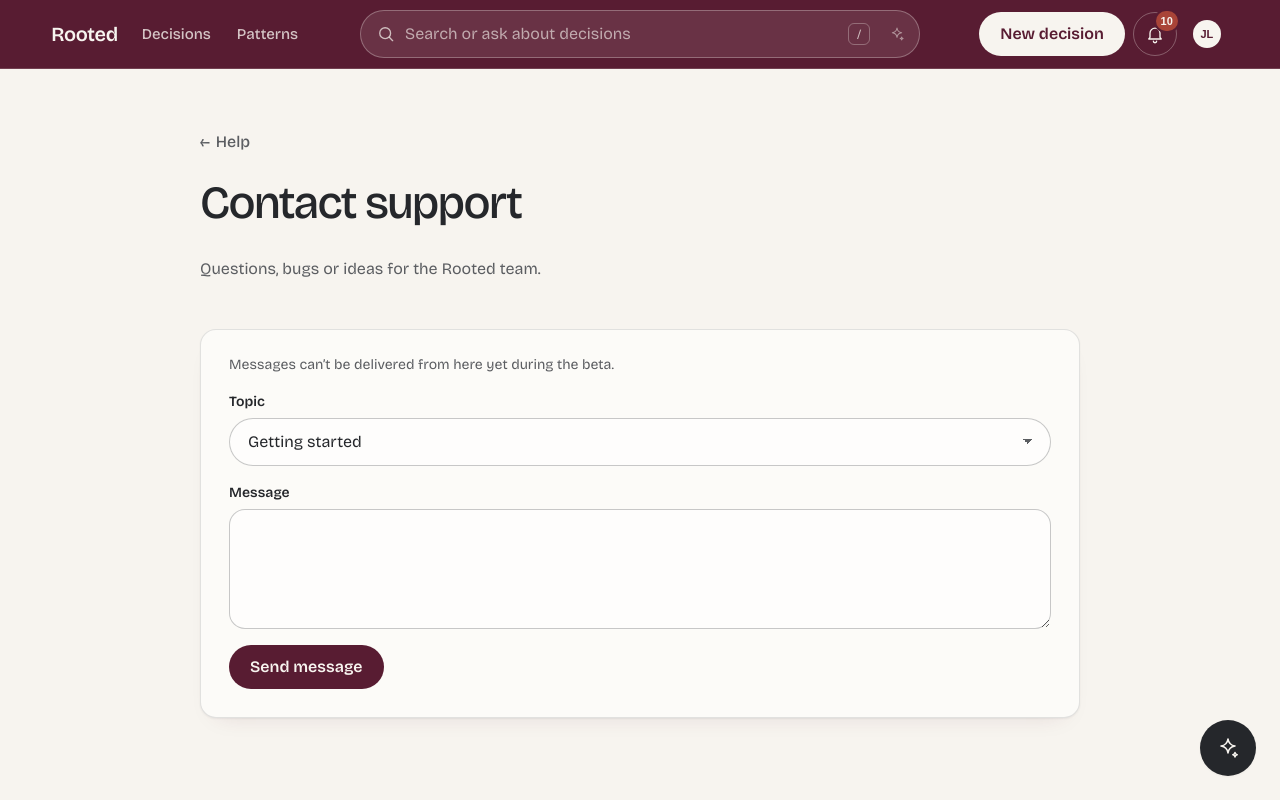
Scenario: Help › F-28: the support form requires a message and confirms nothing was sent
Click the button "Send message": (306, 666) [229,644,384,688]
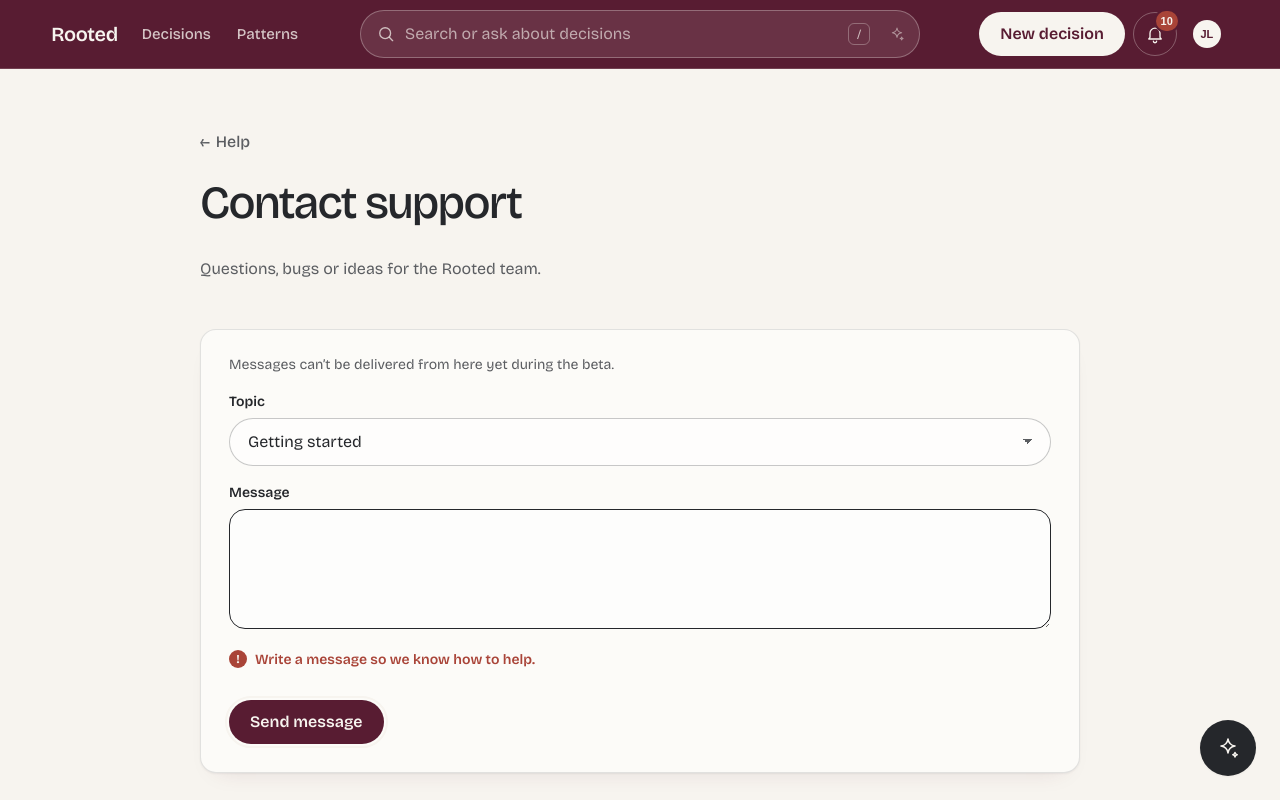
Expected: the message "Write a message so we know how to help." is shown, [255,650,535,668]
Select "Account" in the dropdown labelled "Topic": (640, 442) [229,418,1051,466]
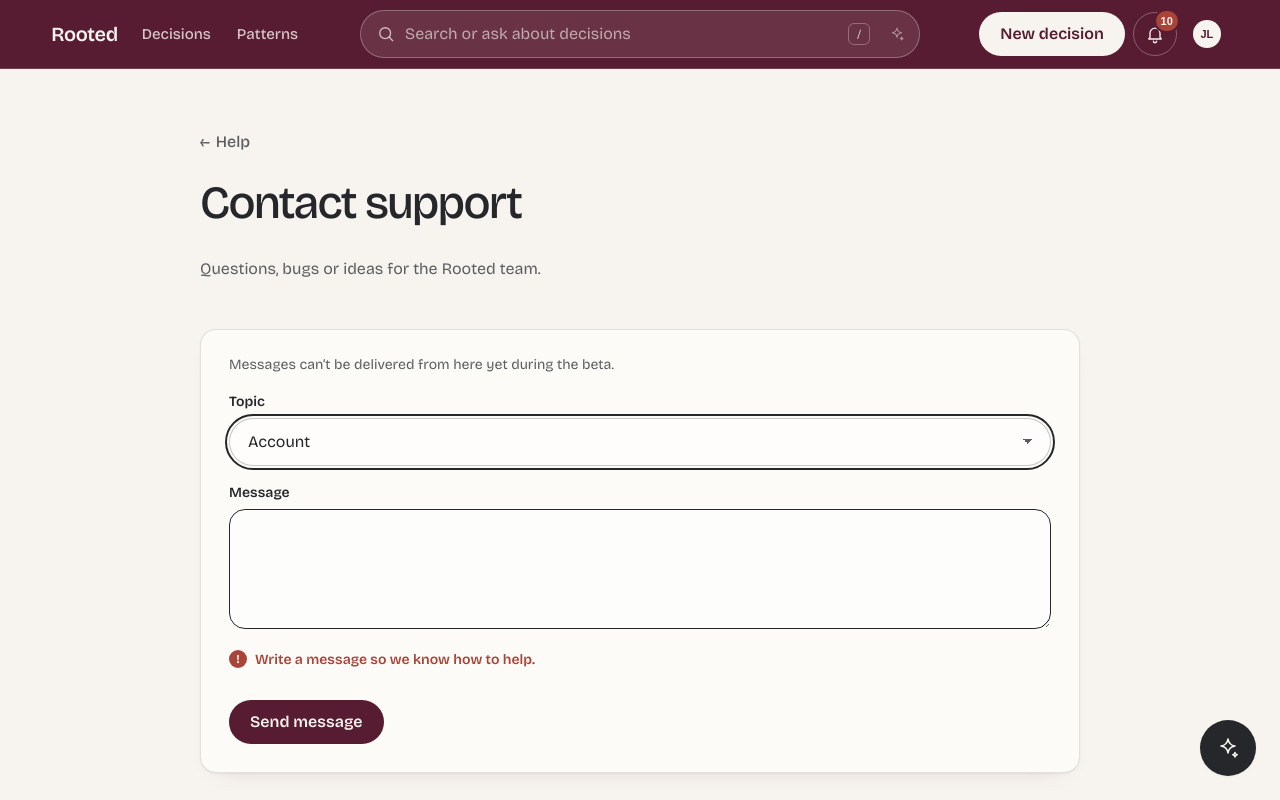
In the text box labelled "Message": (640, 568) [229,508,1051,628], type "How do I export my decision records?"
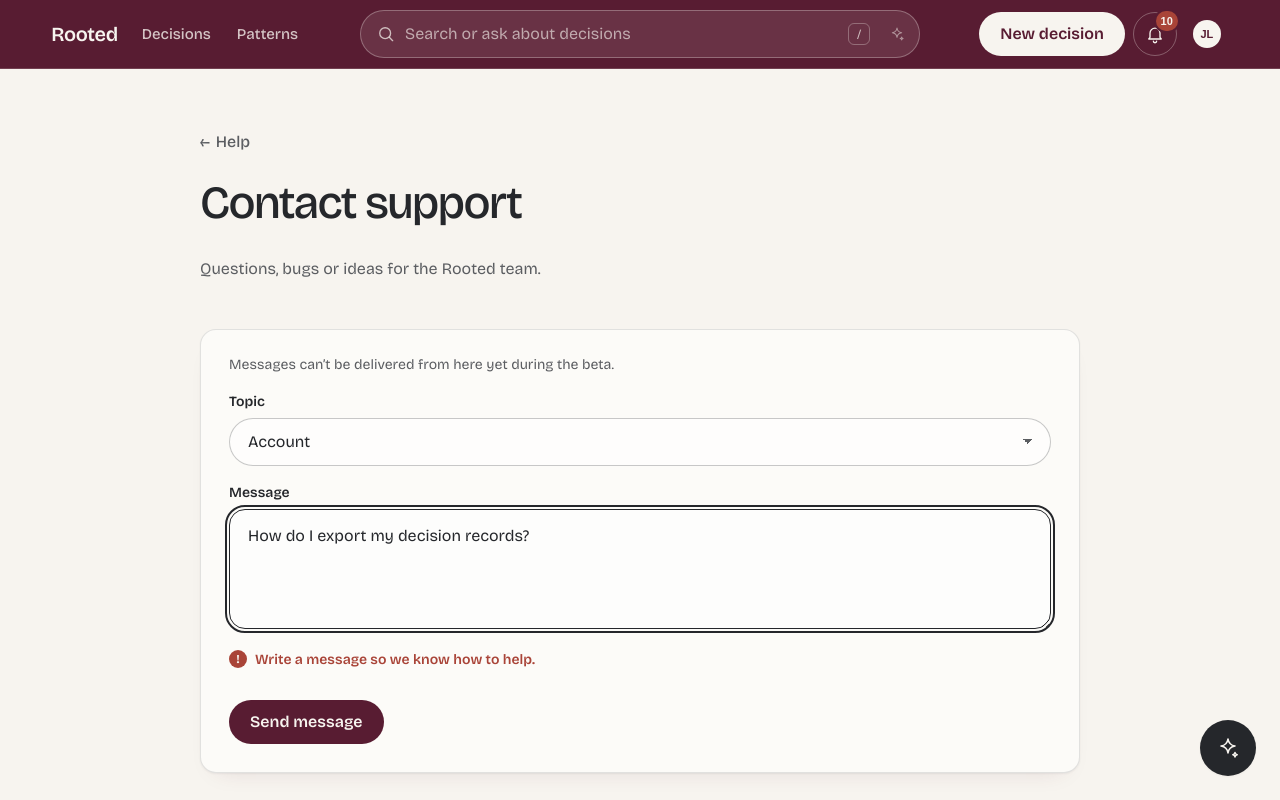
Click the button "Send message": (306, 722) [229,700,384,744]
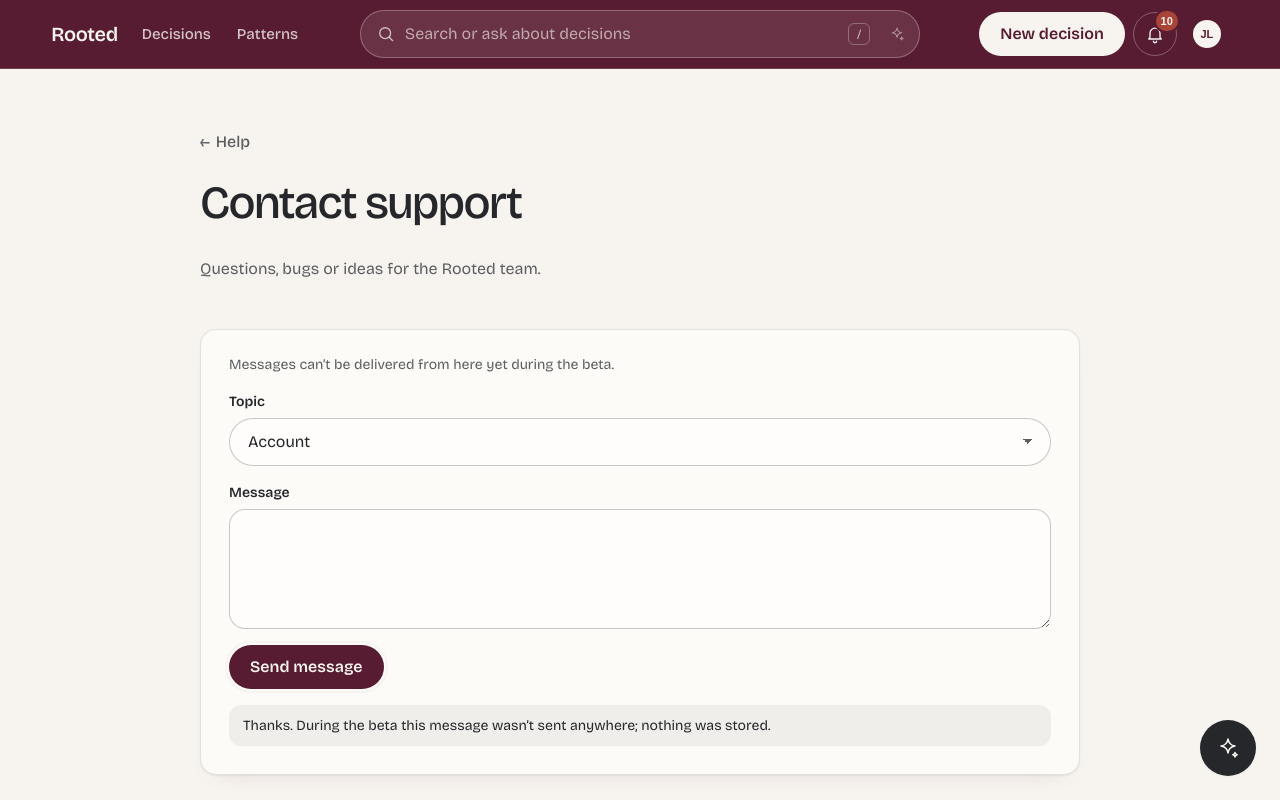
Expected: the message shows "this message wasn’t sent anywhere", [243,716,770,734]
